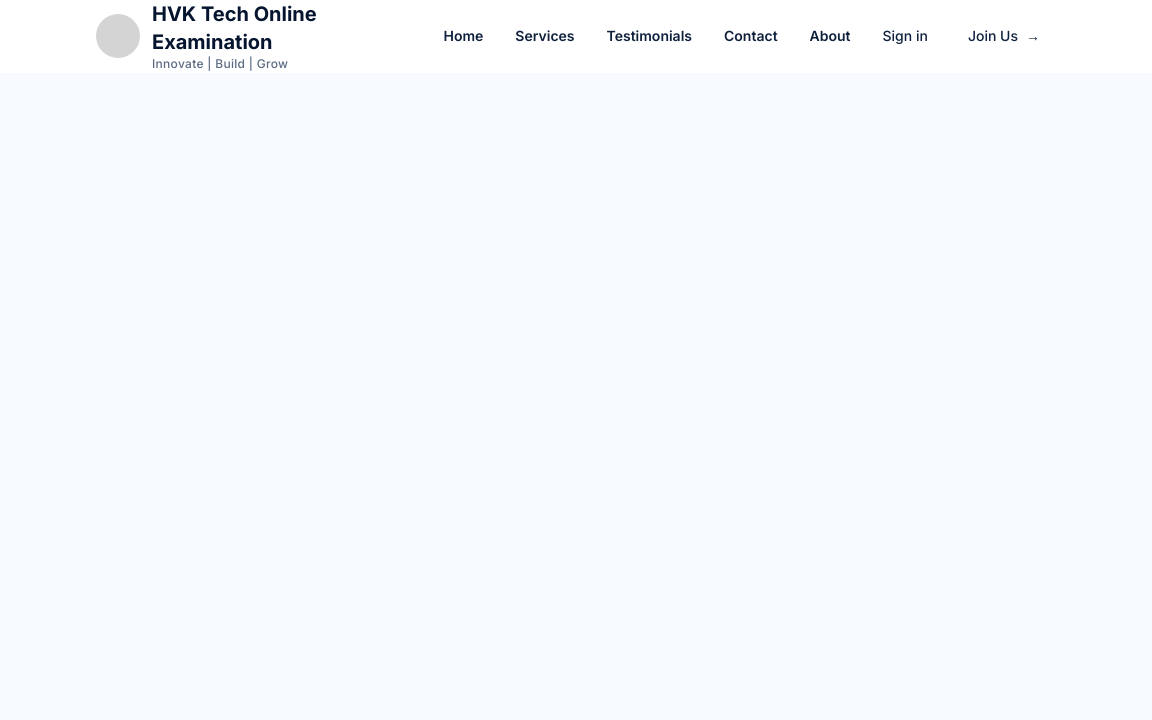
Scenario: sign-in / create-account popup › the header's Sign in and Join Us buttons open the popups
Click the link "Sign in" at coordinates (905, 36), box [882,27,928,44]
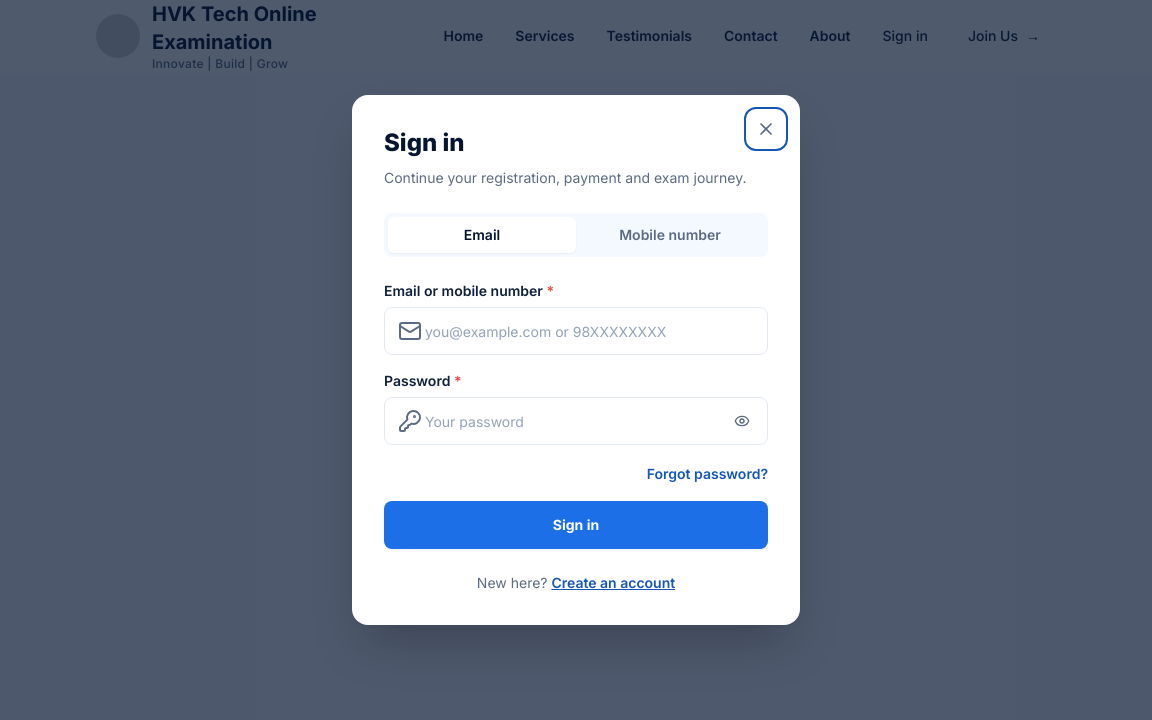
expect the dialog "Sign in" is shown: met, box [352,95,800,625]
Click the button named "Close sign in" at coordinates (766, 129), box [748,111,784,147]
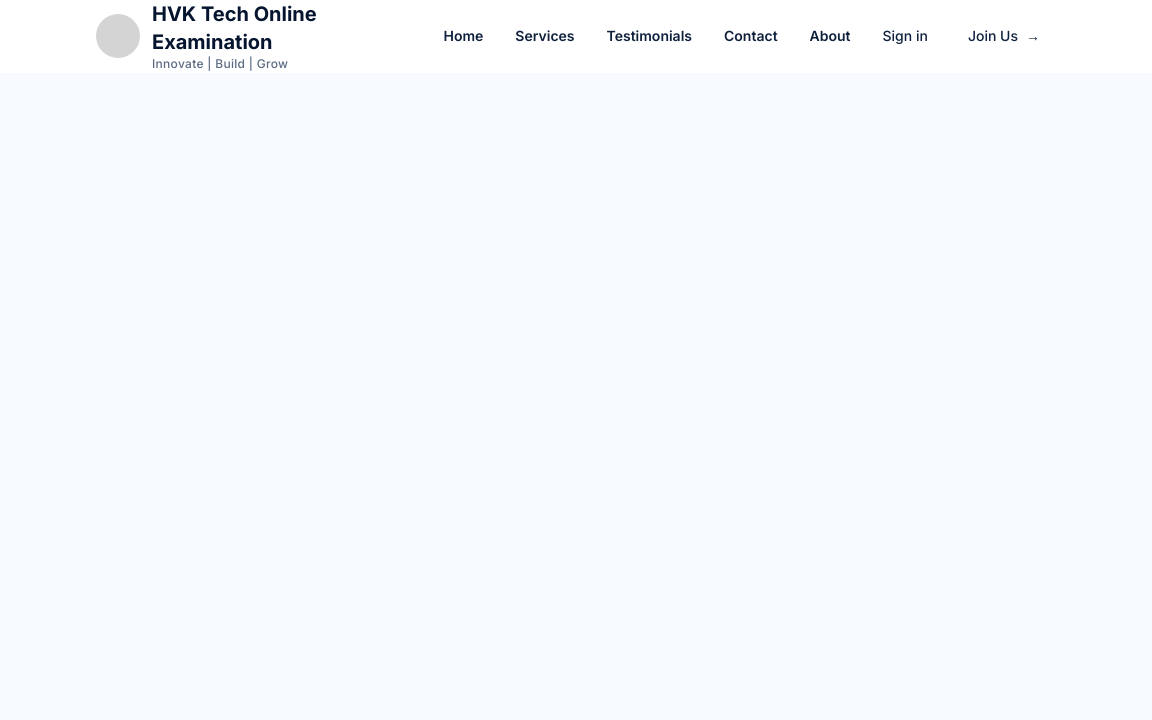
Click the link "Join Us →" at coordinates (1004, 36), box [968,27,1040,44]
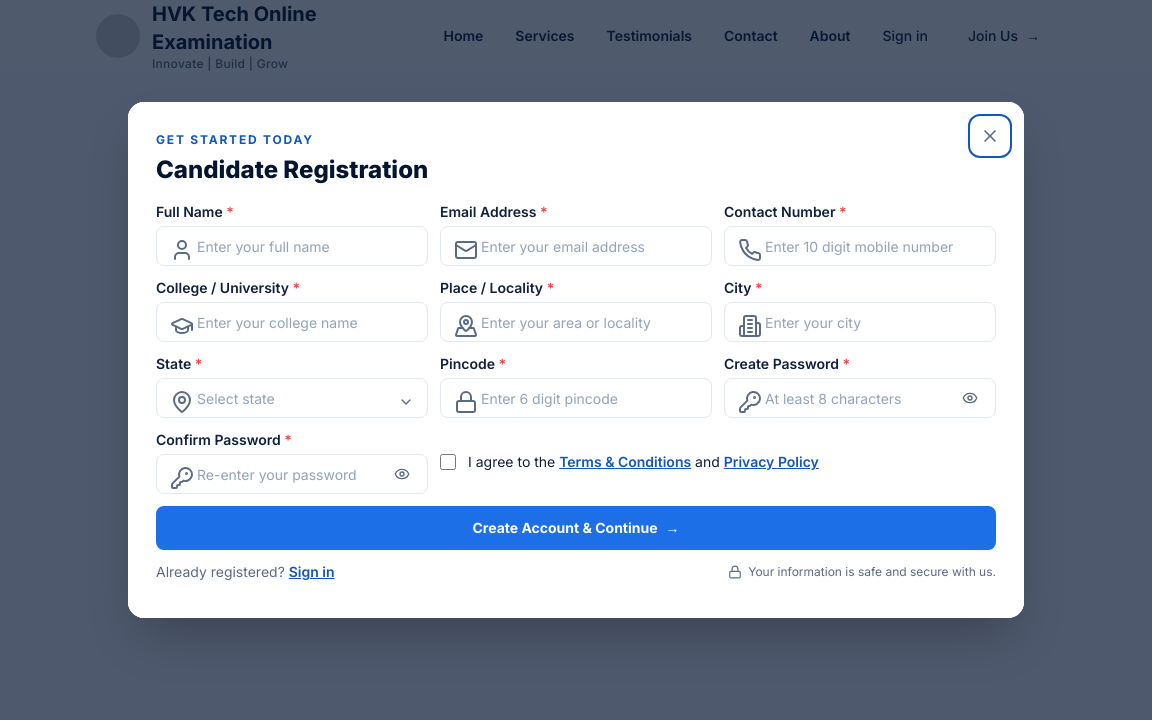
expect the dialog "Candidate Registration" is shown: met, box [128,102,1024,618]
